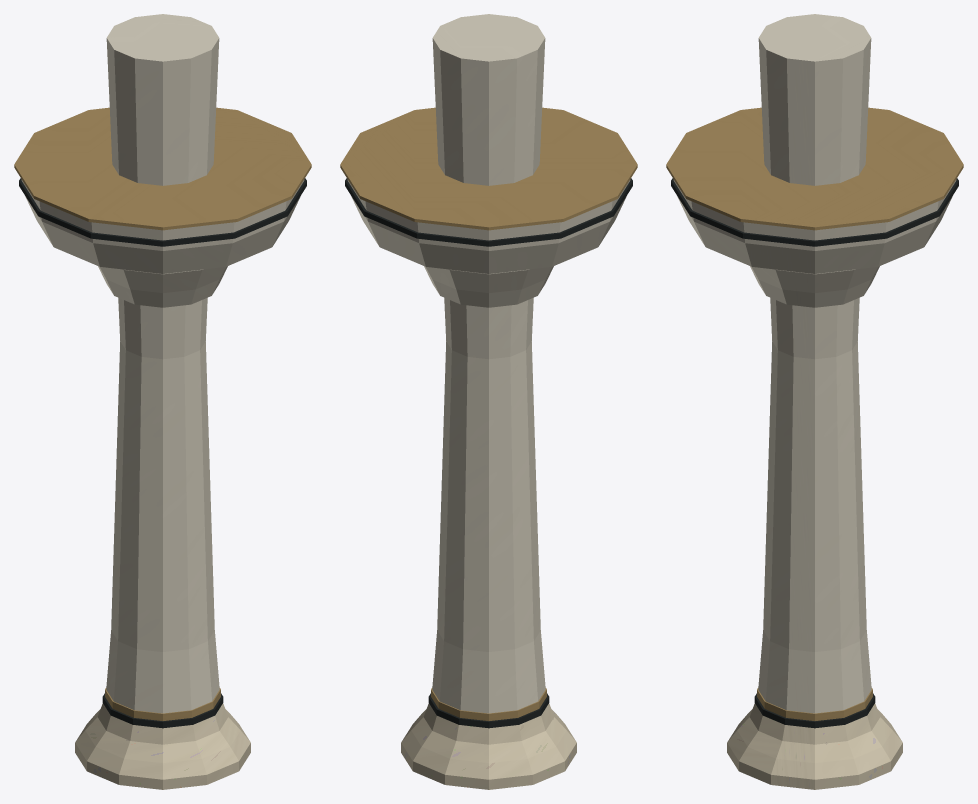
The model's file is AST-STR-001-H576.glb.
3 views of the same model, side by side, from view 1: azimuth 30°, elevation 25°; view 2: azimuth 150°, elevation 25°; view 3: azimuth 270°, elevation 25° (orthographic).
Visible parts, largest first — view 1: STR_TaperedShaft, STR_CeilingBearing, STR_Capital, STR_StoneFoot, STR_CapitalShadow, STR_BaseReveal, STR_LowerMetalBand; view 2: STR_TaperedShaft, STR_CeilingBearing, STR_Capital, STR_StoneFoot, STR_CapitalShadow, STR_BaseReveal, STR_LowerMetalBand; view 3: STR_TaperedShaft, STR_CeilingBearing, STR_Capital, STR_StoneFoot, STR_CapitalShadow, STR_BaseReveal, STR_LowerMetalBand.
Part boxes in pixels (bbox=[...]): STR_TaperedShaft: bbox=[106, 14, 219, 713]; STR_CeilingBearing: bbox=[14, 107, 311, 230]; STR_Capital: bbox=[21, 179, 304, 307]; STR_StoneFoot: bbox=[75, 703, 250, 789]; STR_CapitalShadow: bbox=[19, 178, 306, 246]; STR_BaseReveal: bbox=[102, 693, 223, 728]; STR_LowerMetalBand: bbox=[105, 688, 220, 720]; STR_TaperedShaft: bbox=[432, 14, 545, 713]; STR_CeilingBearing: bbox=[340, 107, 637, 230]; STR_Capital: bbox=[347, 179, 630, 307]; STR_StoneFoot: bbox=[401, 703, 576, 789]; STR_CapitalShadow: bbox=[345, 178, 632, 246]; STR_BaseReveal: bbox=[428, 693, 549, 728]; STR_LowerMetalBand: bbox=[431, 688, 546, 720]; STR_TaperedShaft: bbox=[758, 14, 871, 713]; STR_CeilingBearing: bbox=[666, 107, 963, 230]; STR_Capital: bbox=[673, 179, 956, 307]; STR_StoneFoot: bbox=[727, 703, 902, 789]; STR_CapitalShadow: bbox=[671, 178, 958, 246]; STR_BaseReveal: bbox=[754, 693, 875, 728]; STR_LowerMetalBand: bbox=[757, 688, 872, 720].
Bounding box in the file's own units: 2.64 × 7 × 2.64.
5 materials, 4 textured.
